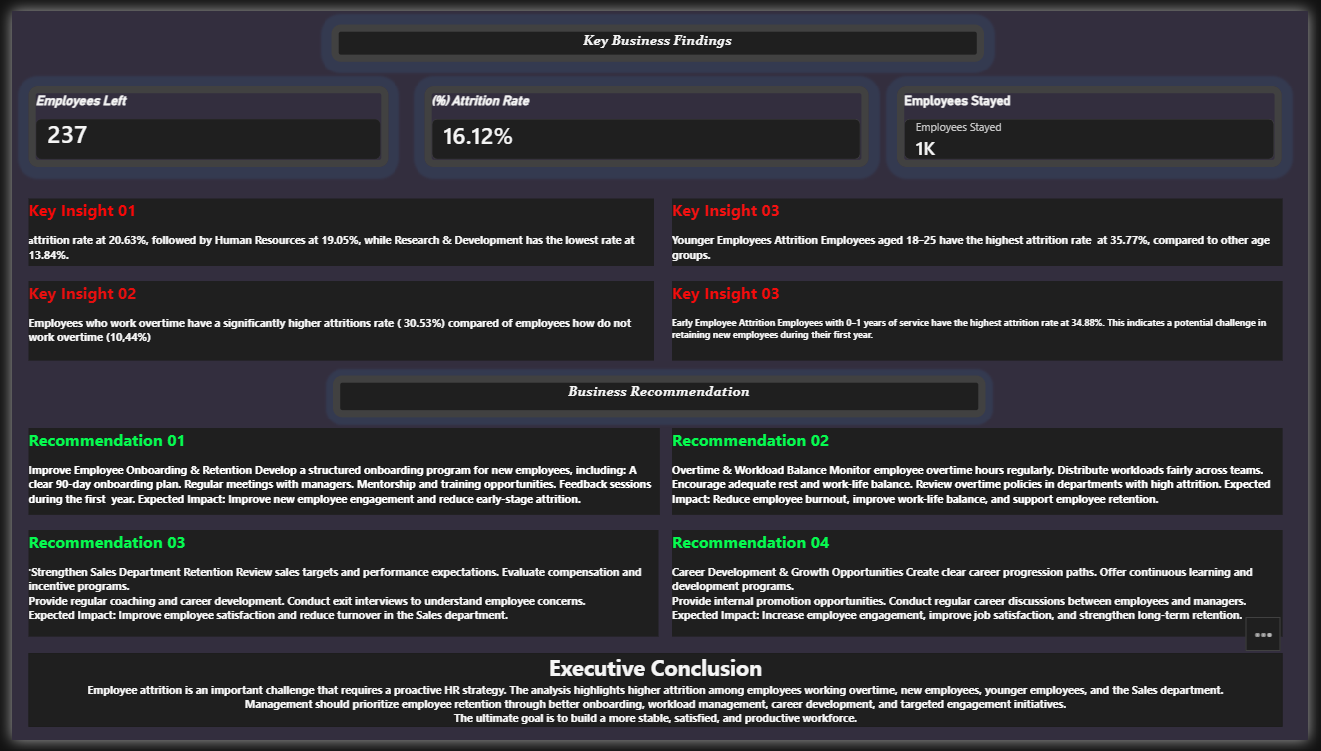

This screenshot's page, from the dashboard's own definition file:
{"tool":"powerbi","page":{"name":"HR Insights & Recommendations","canvas":[1920,1080],"ordinal":3},"visuals":[{"type":"textbox","box":[24.4,400,926.7,117.8],"z":3000},{"type":"textbox","box":[24.4,277.8,926.7,100],"z":4000},{"type":"textbox","box":[977.8,400,904.4,117.8],"z":5000},{"type":"textbox","box":[977.8,277.8,904.4,100],"z":6000},{"type":"textbox","box":[24.4,617.8,935.6,128.9],"z":7000},{"type":"textbox","box":[977.8,617.8,904.4,128.9],"z":8000},{"type":"textbox","box":[24.4,768.9,933.3,157.8],"z":9000},{"type":"textbox","box":[977.8,768.9,904.4,157.8],"z":10000},{"type":"textbox","box":[24.4,951.1,1857.8,108.9],"z":11000},{"type":"cardVisual","title":"Employees Stayed","fields":{"Data":["hr_data.Employees Stayed"]},"box":[1311.1,111.1,570,120],"z":11001},{"type":"cardVisual","title":"(%) Attrition Rate","fields":{"Data":["hr_data.Attrition rate"]},"box":[611.1,111.1,657.8,120],"z":11002},{"type":"cardVisual","title":"Employees Left","fields":{"Data":["hr_data.Employees Left"]},"box":[24.4,111.1,533.3,120],"z":11003},{"type":"textbox","box":[473.3,20,966.7,55.6],"z":11004},{"type":"textbox","box":[475.6,540,966.7,62.2],"z":11005}]}

Visuals, with their boxes in screenshot pixels (x1, y1, x2, y2), scaled from the page's 1920x1080 canvas onto the 1321x751 screenshot:
textbox: crop(17, 278, 654, 360)
textbox: crop(17, 193, 654, 263)
textbox: crop(673, 278, 1295, 360)
textbox: crop(673, 193, 1295, 263)
textbox: crop(17, 430, 660, 519)
textbox: crop(673, 430, 1295, 519)
textbox: crop(17, 535, 659, 644)
textbox: crop(673, 535, 1295, 644)
textbox: crop(17, 661, 1295, 737)
"Employees Stayed" cardVisual: crop(902, 77, 1294, 161)
"(%) Attrition Rate" cardVisual: crop(420, 77, 873, 161)
"Employees Left" cardVisual: crop(17, 77, 384, 161)
textbox: crop(326, 14, 991, 53)
textbox: crop(327, 376, 992, 419)
